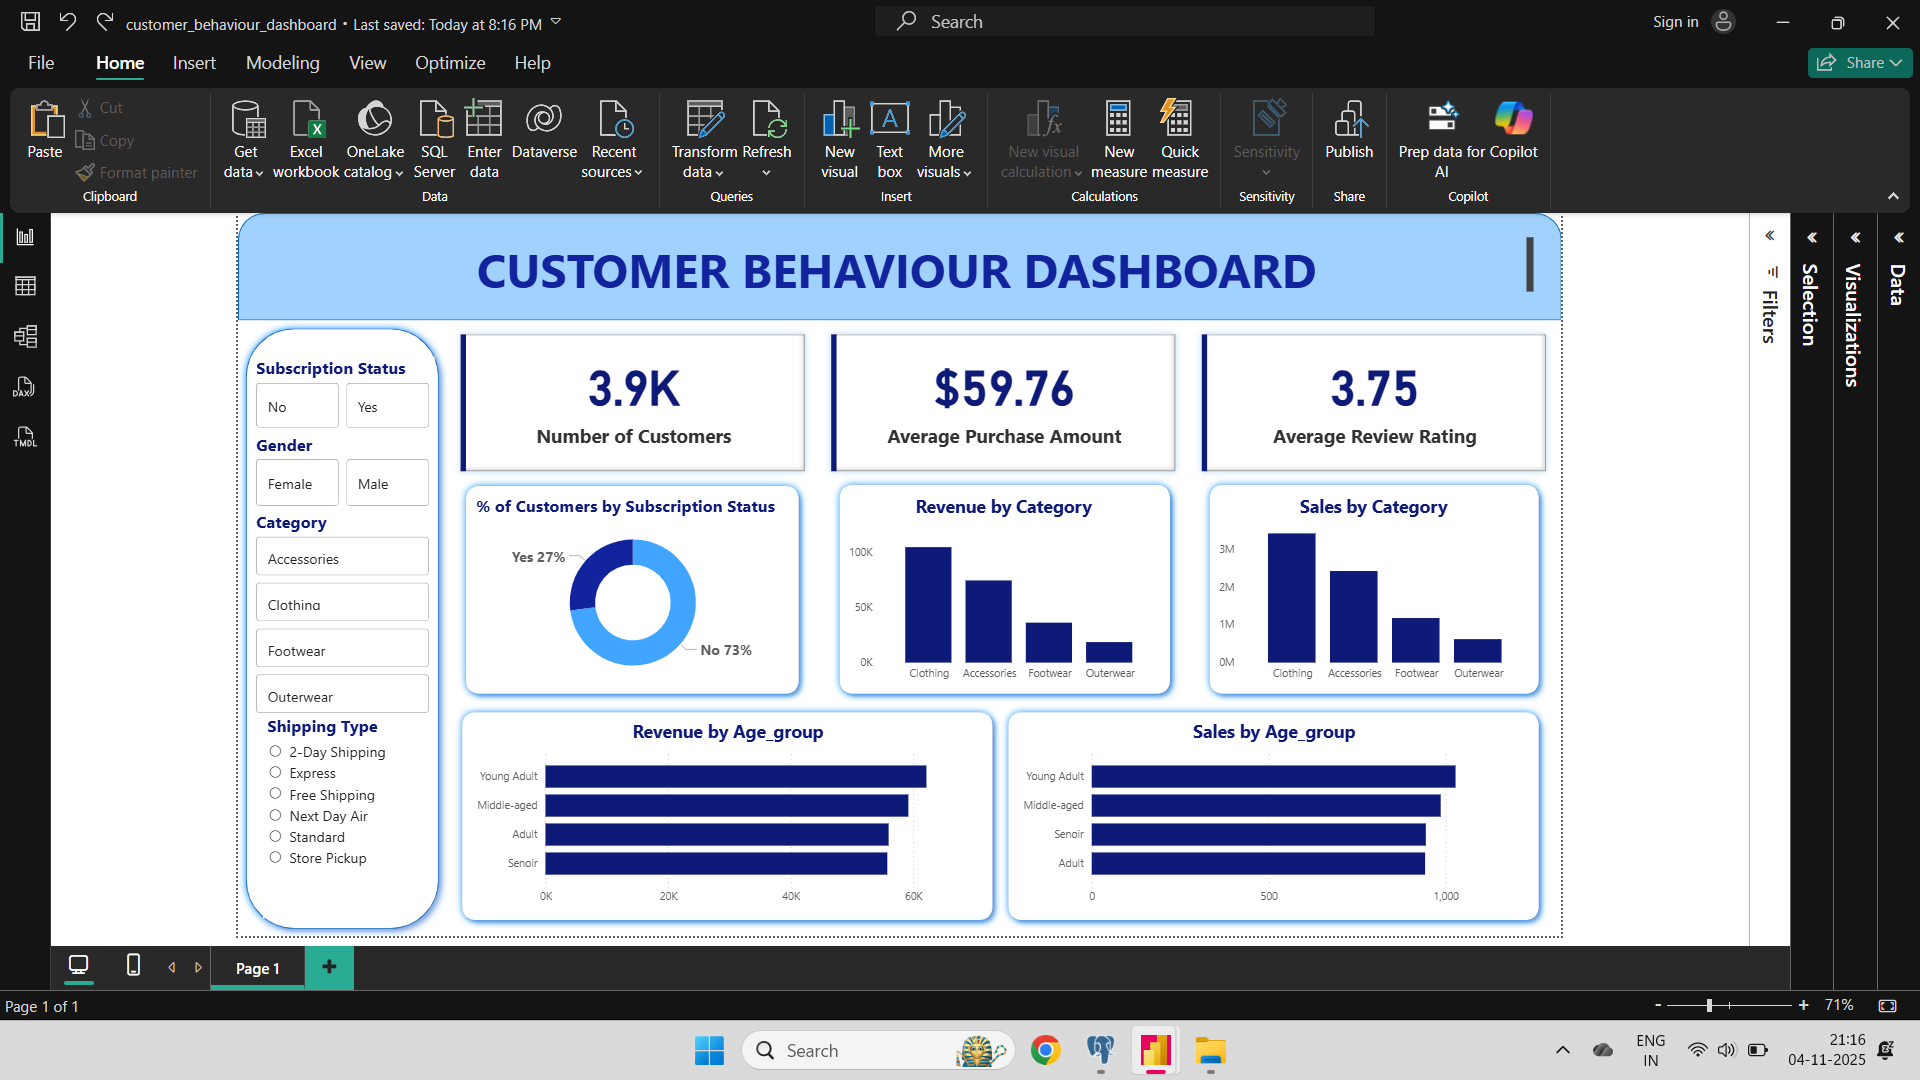

The dashboard page shown, as its layout file describes it:
{"tool":"powerbi","page":{"name":"Page 1","canvas":[1500,820],"ordinal":0},"visuals":[{"type":"cardVisual","fields":{"Data":["public customer.Number of Customers","public customer.Average Purchase Amount","public customer.Average Review Rating"]},"box":[236.6,121.8,1263.7,187],"z":0},{"type":"shape","box":[0,0,1500.3,121.8],"z":1000},{"type":"textbox","box":[28.3,22.7,1445.1,76.5],"z":2000},{"type":"shape","box":[249.3,300.3,395.3,253.6],"z":3000},{"type":"donutChart","title":"% of Customers by Subscription Status","fields":{"Category":["public customer.subscription_status"],"Y":["CountNonNull(public customer.customer_id)"]},"box":[264.9,318.8,365.5,221],"z":4000},{"type":"shape","box":[1092.3,298.9,391,255],"z":5000},{"type":"shape","box":[672.9,298.9,392.4,255],"z":6000},{"type":"clusteredColumnChart","title":"Revenue by Category","fields":{"Y":["Sum(public customer.purchase_amount)"],"Category":["public customer.category"]},"box":[687.1,318.8,361.3,221],"z":7000},{"type":"clusteredColumnChart","title":"Sales by Category","fields":{"Y":["Sum(public customer.customer_id)"],"Category":["public customer.category"]},"box":[1106.5,318.8,361.3,221],"z":8000},{"type":"shape","box":[0,121.8,236.6,698.4],"z":9000},{"type":"advancedSlicerVisual","fields":{"Values":["public customer.subscription_status"]},"box":[15.6,162.9,206.8,86.4],"z":10000},{"type":"advancedSlicerVisual","fields":{"Values":["public customer.gender"]},"box":[15.6,249.3,206.8,87.8],"z":11000},{"type":"advancedSlicerVisual","fields":{"Values":["public customer.category"]},"box":[15.6,337.2,206.8,236.6],"z":12000},{"type":"listSlicer","fields":{"Values":["public customer.shipping_type"]},"box":[28.3,568.1,172.8,230.9],"z":13000},{"type":"shape","box":[245.1,556.8,619.1,253.6],"z":15000},{"type":"clusteredBarChart","title":"Revenue by Age_group","fields":{"Y":["Sum(public customer.purchase_amount)"],"Category":["public customer.age_group"]},"box":[260.7,573.8,589.4,219.6],"z":15500},{"type":"shape","box":[864.2,556.8,619.1,253.6],"z":16000},{"type":"clusteredBarChart","title":"Sales by Age_group","fields":{"Y":["CountNonNull(public customer.customer_id)"],"Category":["public customer.age_group"]},"box":[879.8,573.8,589.4,219.6],"z":17000}]}

Visuals, with their boxes on the page's 1500x820 design canvas (x1, y1, x2, y2). These are canvas units, not pixel positions in the 1920x1080 screenshot, which may show the page scaled, cropped or inside an application window:
cardVisual - public customer.Number of Customers x public customer.Average Purchase Amount: BBox(237, 122, 1500, 309)
shape: BBox(0, 0, 1500, 122)
textbox: BBox(28, 23, 1473, 99)
shape: BBox(249, 300, 645, 554)
"% of Customers by Subscription Status" donutChart: BBox(265, 319, 630, 540)
shape: BBox(1092, 299, 1483, 554)
shape: BBox(673, 299, 1065, 554)
"Revenue by Category" clusteredColumnChart: BBox(687, 319, 1048, 540)
"Sales by Category" clusteredColumnChart: BBox(1106, 319, 1468, 540)
shape: BBox(0, 122, 237, 820)
advancedSlicerVisual - public customer.subscription_status: BBox(16, 163, 222, 249)
advancedSlicerVisual - public customer.gender: BBox(16, 249, 222, 337)
advancedSlicerVisual - public customer.category: BBox(16, 337, 222, 574)
listSlicer - public customer.shipping_type: BBox(28, 568, 201, 799)
shape: BBox(245, 557, 864, 810)
"Revenue by Age_group" clusteredBarChart: BBox(261, 574, 850, 793)
shape: BBox(864, 557, 1483, 810)
"Sales by Age_group" clusteredBarChart: BBox(880, 574, 1469, 793)
